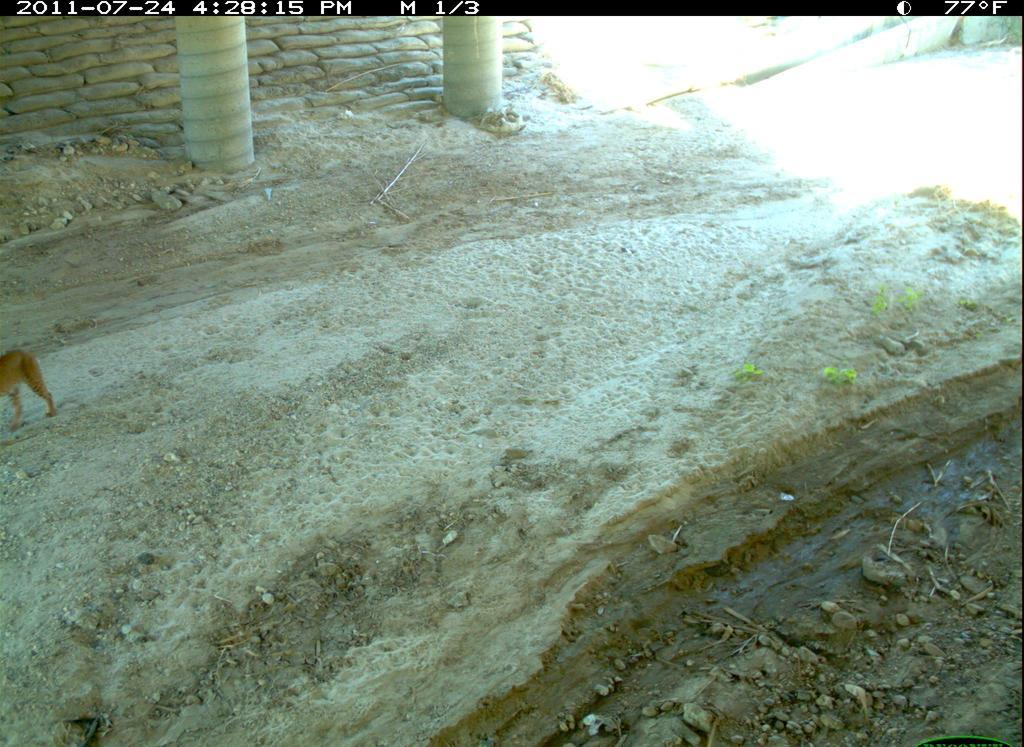bobcat: (1, 336, 61, 434)
